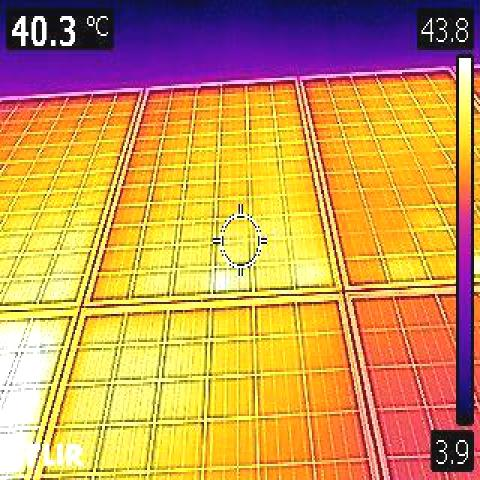fault: (0, 318, 40, 479), (210, 268, 234, 296)
